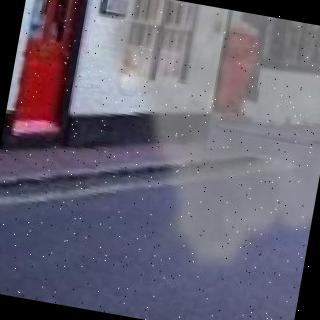smoke: (64, 0, 320, 284)
